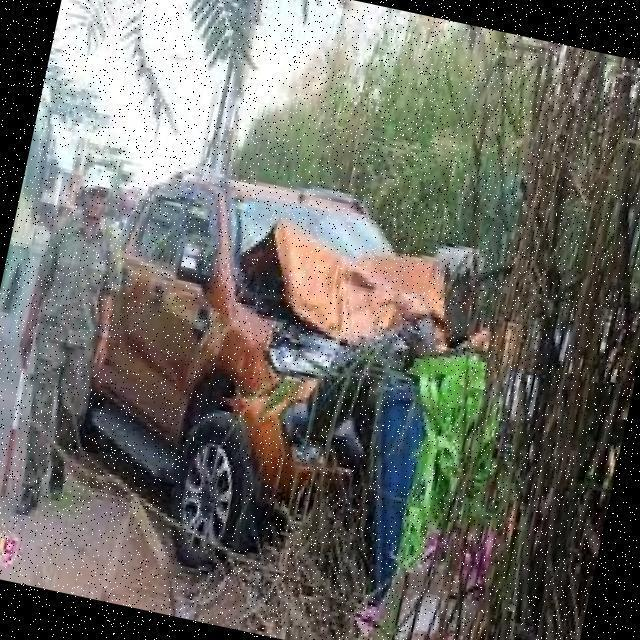accident: (141, 156, 512, 584)
